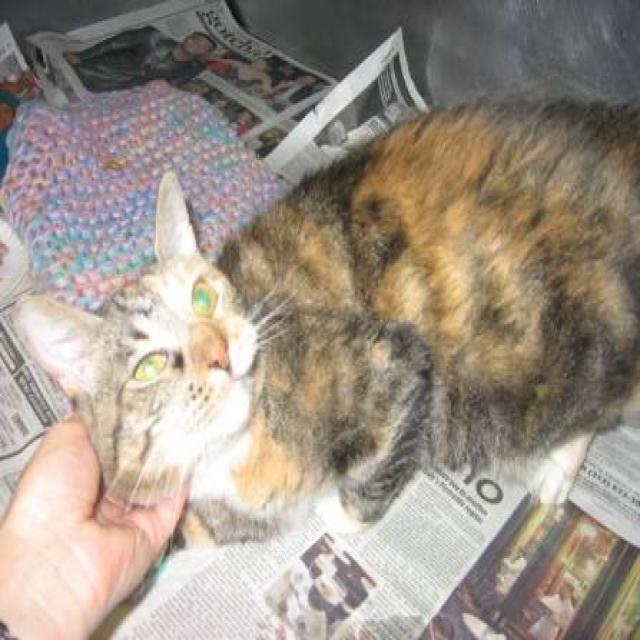cat: (13, 91, 638, 556)
